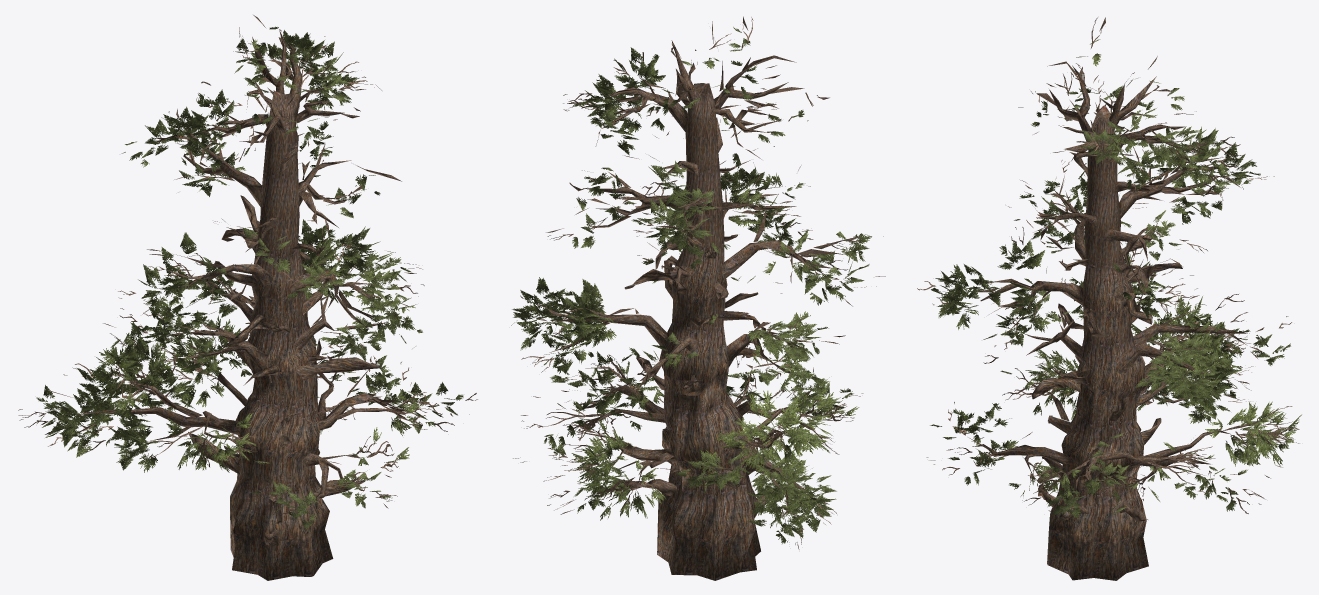
File: juniper_w.glb
3 views of the same model, side by side, from view 1: azimuth 30°, elevation 25°; view 2: azimuth 150°, elevation 25°; view 3: azimuth 270°, elevation 25° (orthographic). The views are drawn at different scales.
Parts seen in each view (by area): view 1: WesternJuniper_Med_Branches, WesternJuniper_Med_Leaves, WesternJuniper_Med_Fronds; view 2: WesternJuniper_Med_Branches, WesternJuniper_Med_Leaves, WesternJuniper_Med_Fronds; view 3: WesternJuniper_Med_Branches, WesternJuniper_Med_Leaves, WesternJuniper_Med_Fronds.
Part boxes in pixels (x1=…): WesternJuniper_Med_Branches: x1=18, y1=15, x2=422, y2=580; WesternJuniper_Med_Leaves: x1=36, y1=26, x2=463, y2=529; WesternJuniper_Med_Fronds: x1=18, y1=33, x2=477, y2=545; WesternJuniper_Med_Branches: x1=513, y1=16, x2=885, y2=580; WesternJuniper_Med_Leaves: x1=511, y1=27, x2=871, y2=543; WesternJuniper_Med_Fronds: x1=521, y1=17, x2=883, y2=544; WesternJuniper_Med_Branches: x1=929, y1=17, x2=1282, y2=580; WesternJuniper_Med_Leaves: x1=930, y1=39, x2=1301, y2=518; WesternJuniper_Med_Fronds: x1=917, y1=17, x2=1299, y2=521.
Bounding box in the file's own units: 11.25 × 15.74 × 10.55.
4 materials, 4 textured.
